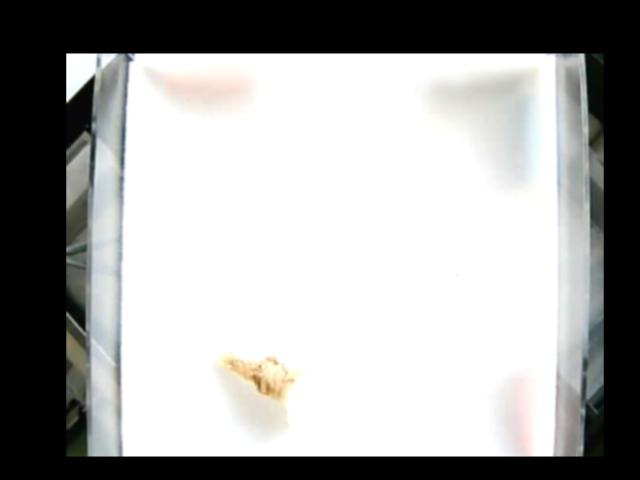Mooli: (211, 350, 337, 432)
